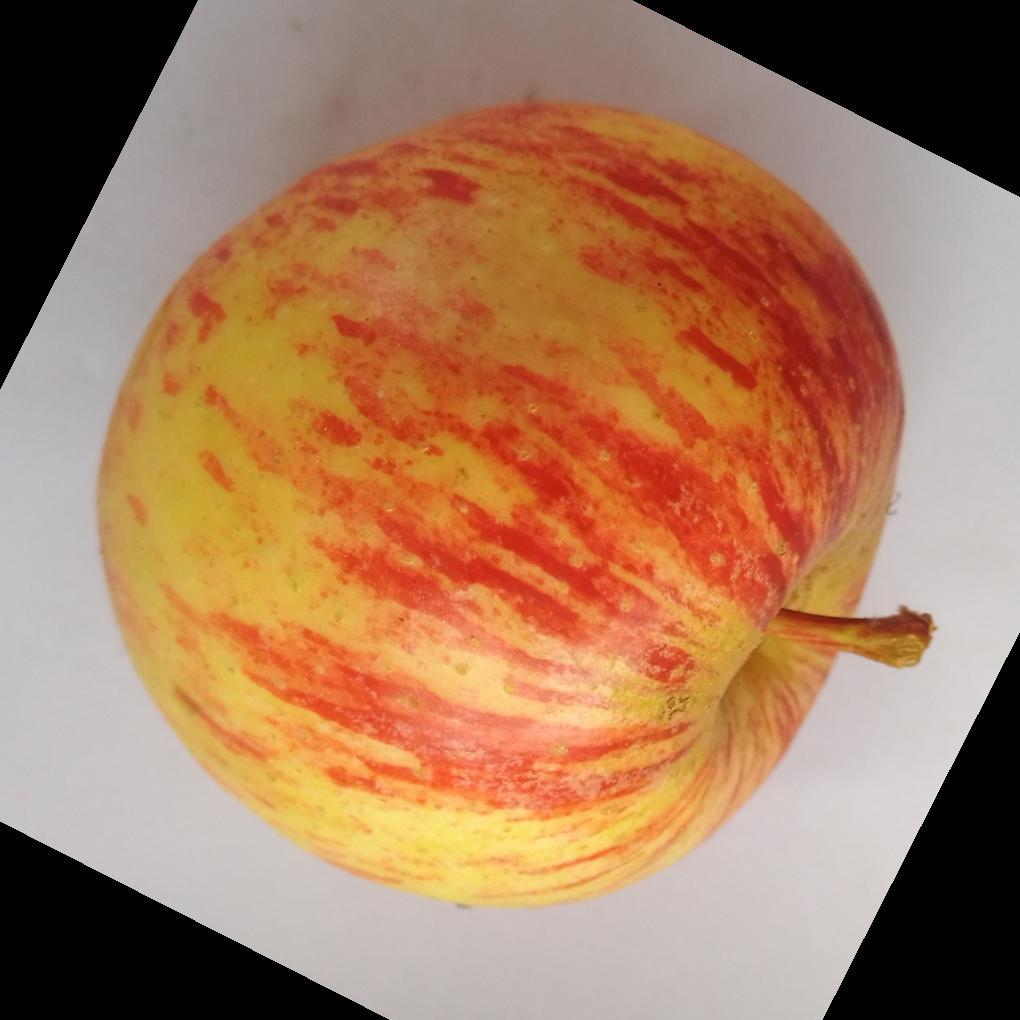FreshGuava: (93, 100, 936, 915)
